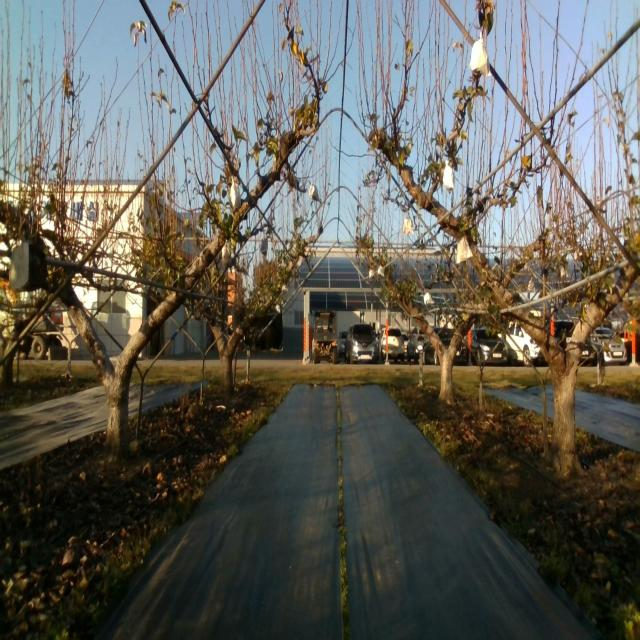pearbags: (468, 32, 491, 76), (456, 236, 473, 265), (443, 160, 455, 190), (230, 176, 241, 208), (221, 240, 232, 268), (403, 212, 414, 234)
